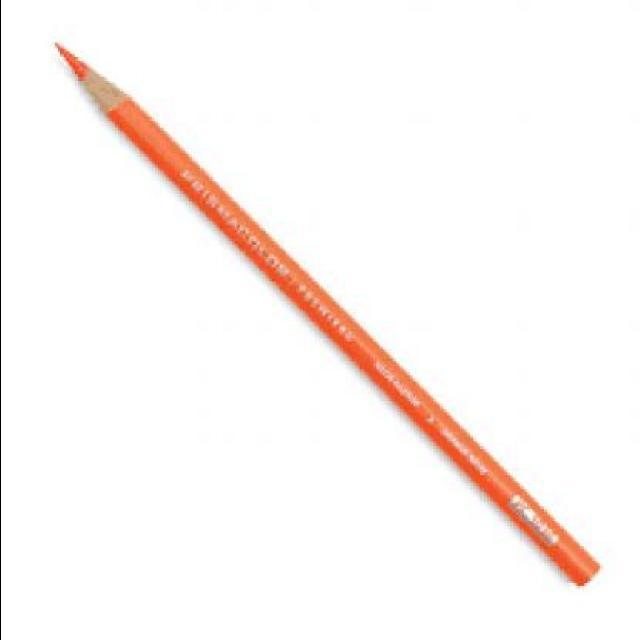pencil: (34, 30, 151, 138)
